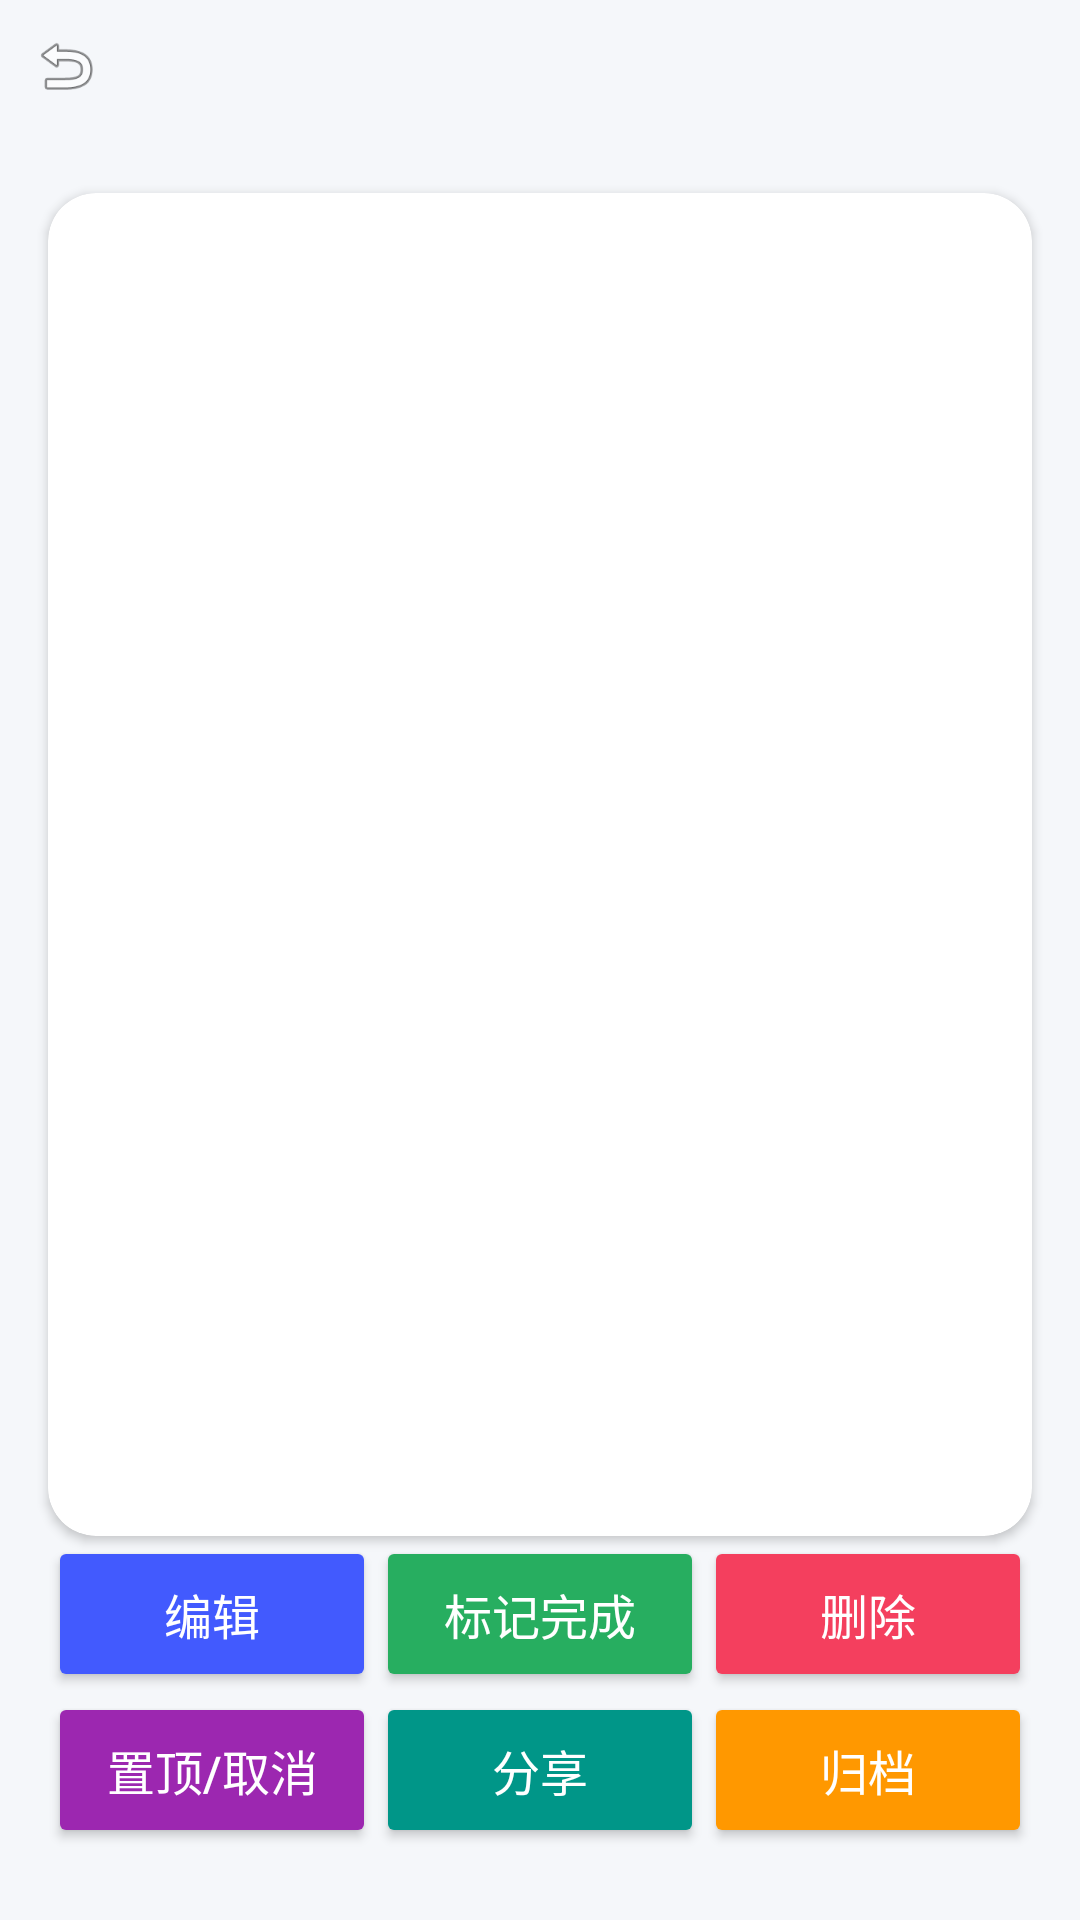

Screen size 1080×1920. Icon name, then its center in pixels as (x=x, y=y):
返回: (x=67, y=66)
